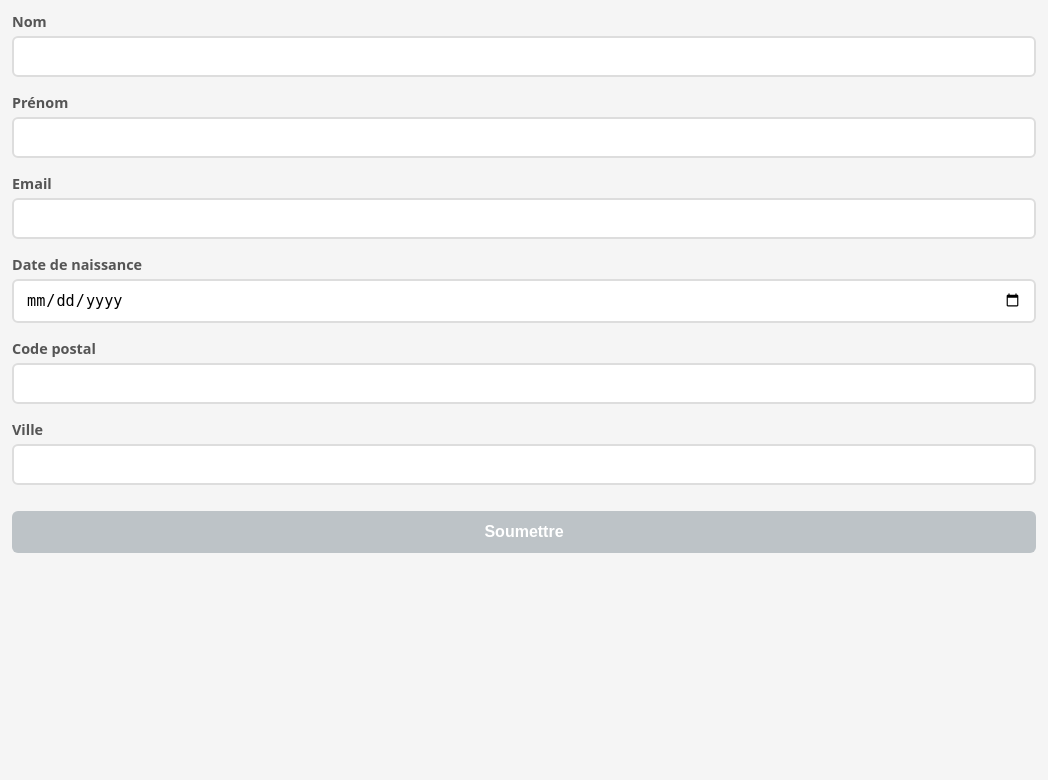
it: UserForm - Tests d'intégration › Erreur métier - API 400 (email déjà utilisé) › doit afficher le message d'erreur du serveur
Type "Dupont" into the field labelled "Nom".
click(524, 56); type("Dupont")  # box [12, 36, 1036, 77]
Type "Jean" into the field labelled "Prénom".
click(524, 138); type("Jean")  # box [12, 117, 1036, 158]
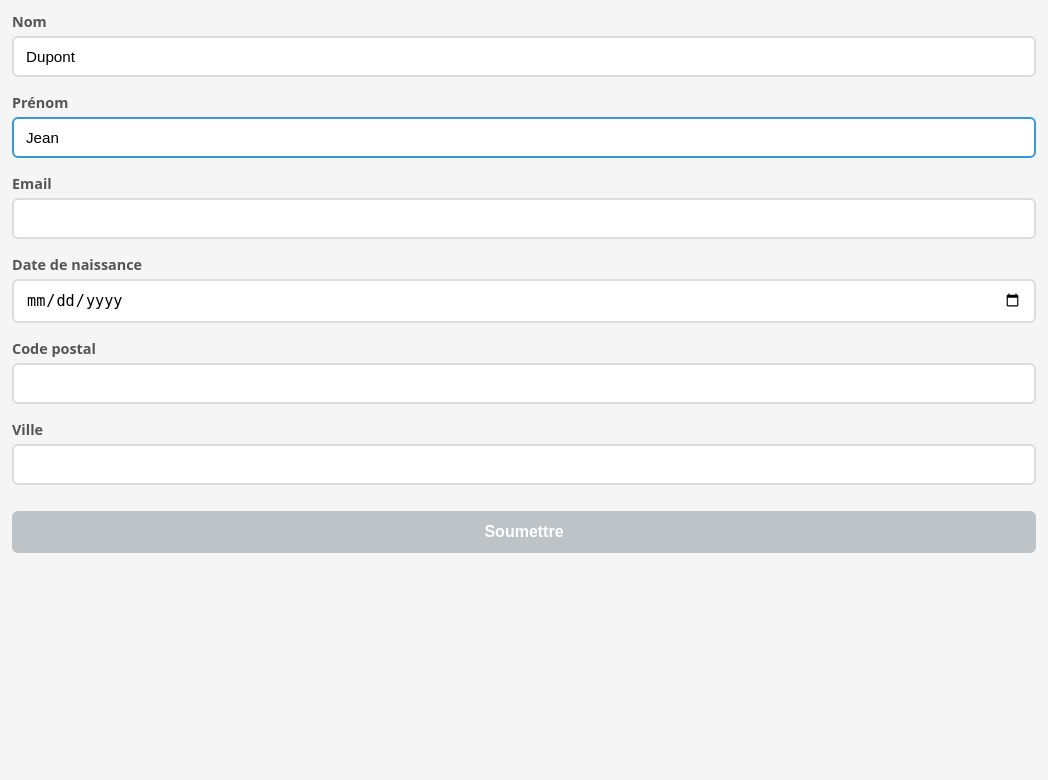
Type "jean@example.com" into the field labelled "Email".
click(524, 218); type("jean@example.com")  # box [12, 198, 1036, 239]
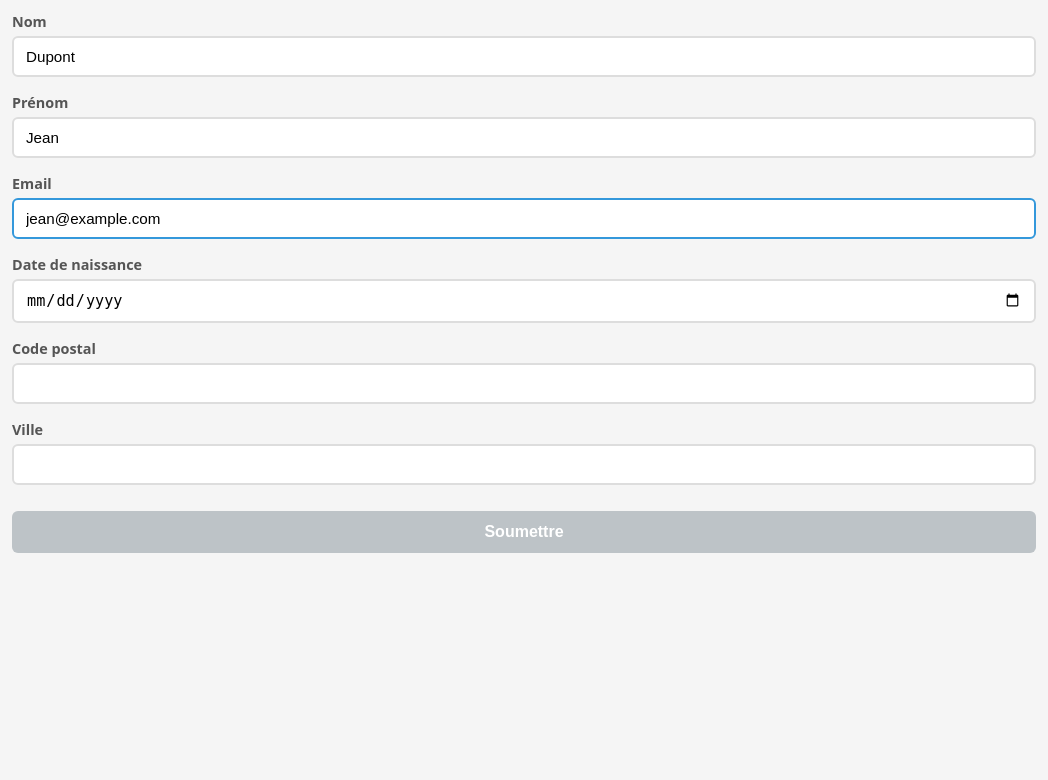
Type "1990-05-15" into the date field labelled "Date de naissance".
click(524, 301); type("1990-05-15")  # box [12, 279, 1036, 323]
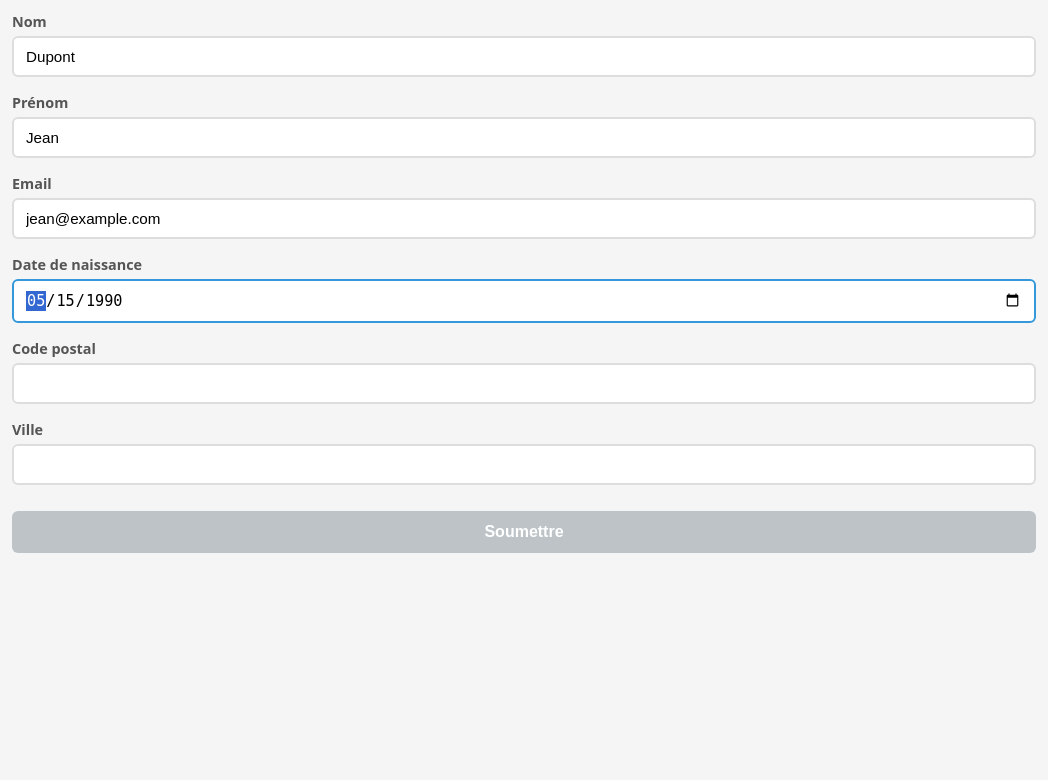
Type "75001" into the field labelled "Code postal".
click(524, 384); type("75001")  # box [12, 363, 1036, 404]
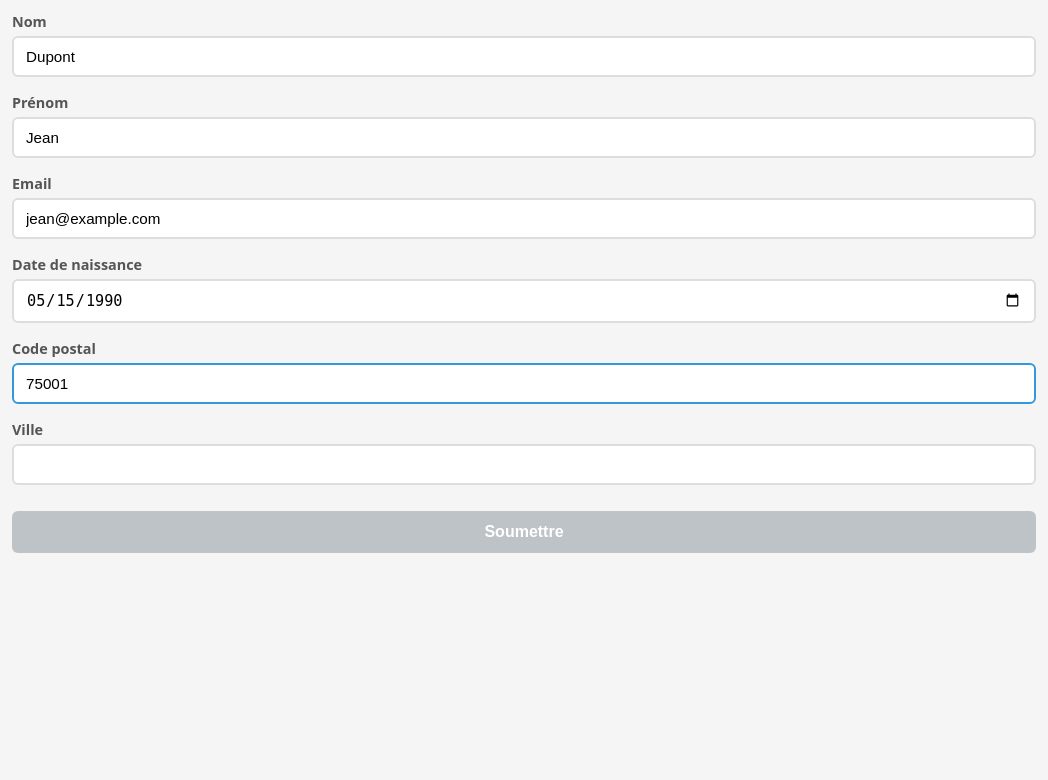
Type "Paris" into the field labelled "Ville".
click(524, 464); type("Paris")  # box [12, 444, 1036, 485]
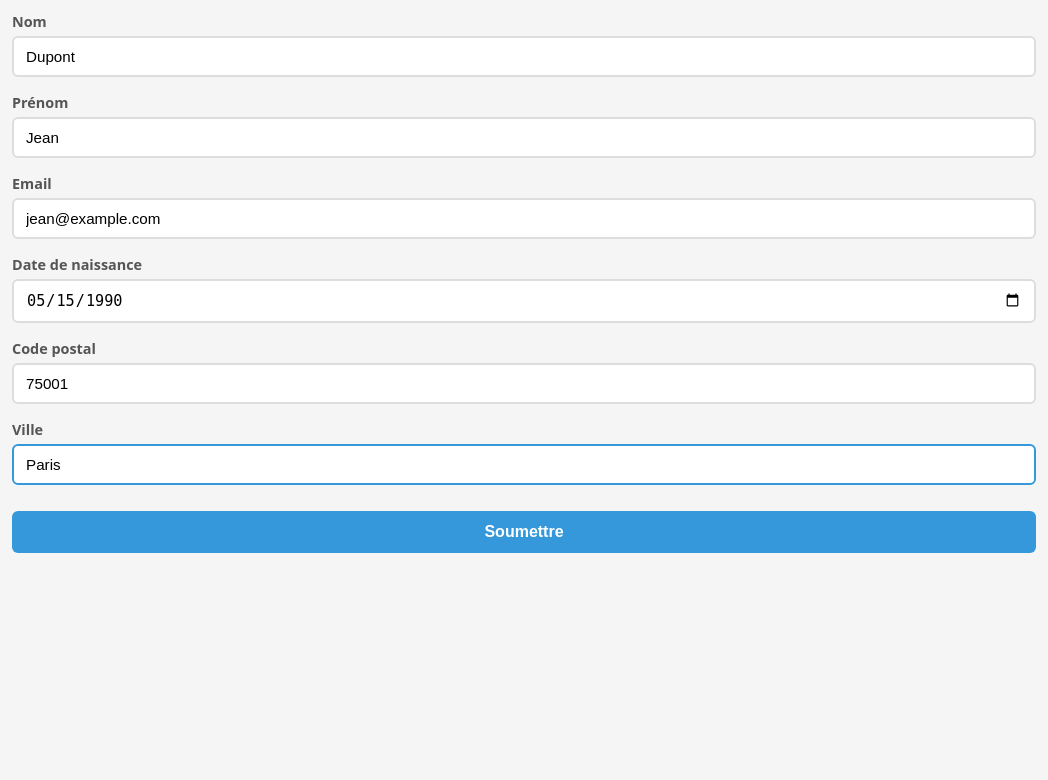
Click the button "Soumettre".
click(524, 532)  # box [12, 511, 1036, 553]
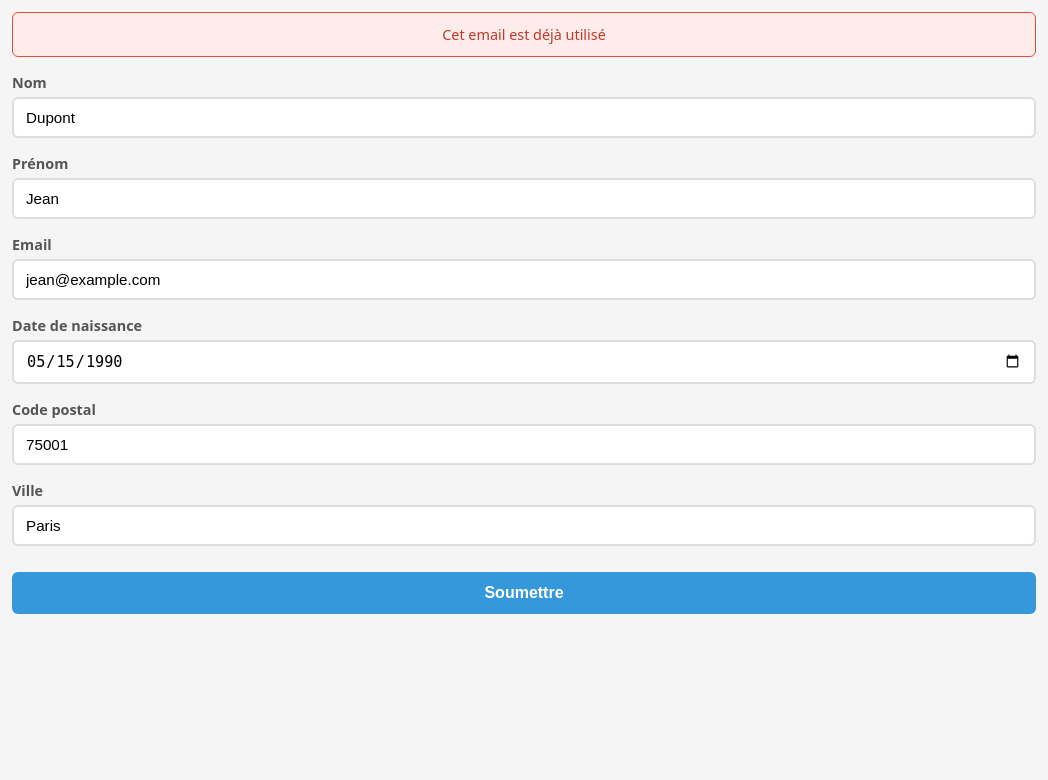
Result: the message with test id "api-error" reads "Cet email est déjà utilisé" at [442, 25, 606, 44]
